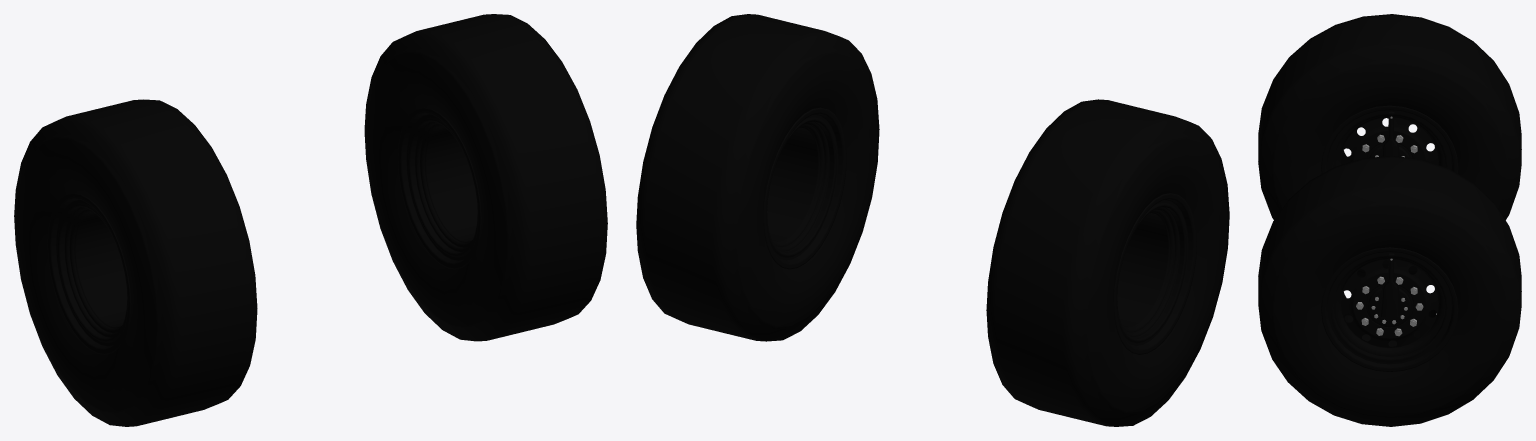
Rendered from wheels-front.gltf.
The picture shows the model from 3 angles, left to right: view 1: azimuth 30°, elevation 25°; view 2: azimuth 150°, elevation 25°; view 3: azimuth 270°, elevation 25°; orthographic projection. The views are drawn at different scales.
Parts seen in each view (by area): view 1: Object_2.003, Object_2.002; view 2: Object_2.003, Object_2.002; view 3: Object_2.002, Object_2.003.
Part boxes in pixels (x1=…): Object_2.003: x1=14, y1=99, x2=257, y2=426; Object_2.002: x1=364, y1=14, x2=607, y2=341; Object_2.003: x1=986, y1=99, x2=1229, y2=426; Object_2.002: x1=636, y1=14, x2=879, y2=341; Object_2.002: x1=1258, y1=155, x2=1521, y2=426; Object_2.003: x1=1258, y1=14, x2=1521, y2=277.
Size of the model in its own units: 3.03 by 1.82 by 1.82.
Materials: 1 (1 with a texture image).
